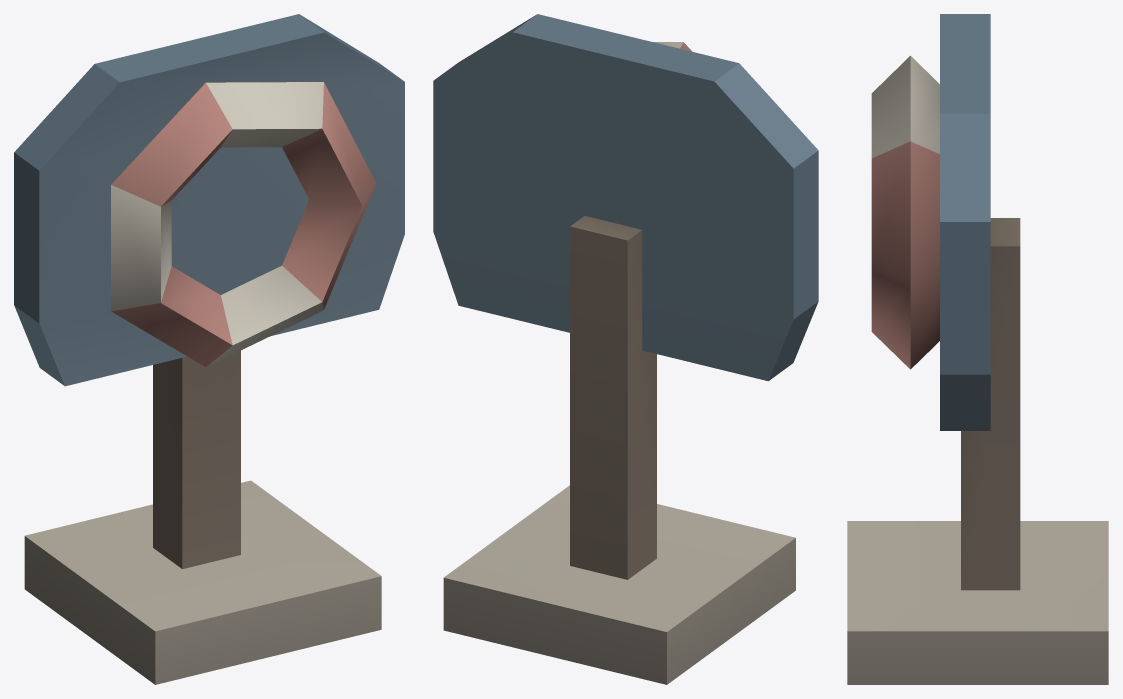
The model's file is buoy.lod2.glb.
The picture shows the model from 3 angles, left to right: view 1: azimuth 30°, elevation 25°; view 2: azimuth 150°, elevation 25°; view 3: azimuth 270°, elevation 25°; orthographic projection.
Size of the model in its own units: 1 by 1.48 by 0.62.
